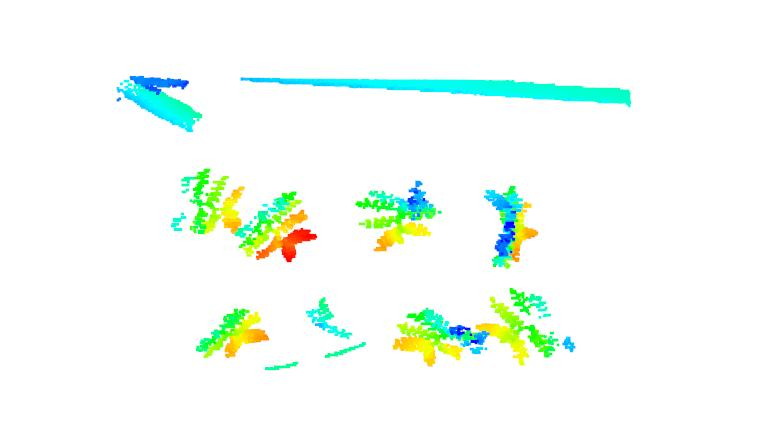chickpea: (475, 289, 576, 365), (353, 180, 443, 254), (234, 189, 318, 264), (390, 307, 482, 366), (169, 167, 243, 237), (482, 187, 541, 269), (193, 307, 268, 361), (304, 297, 357, 341)
